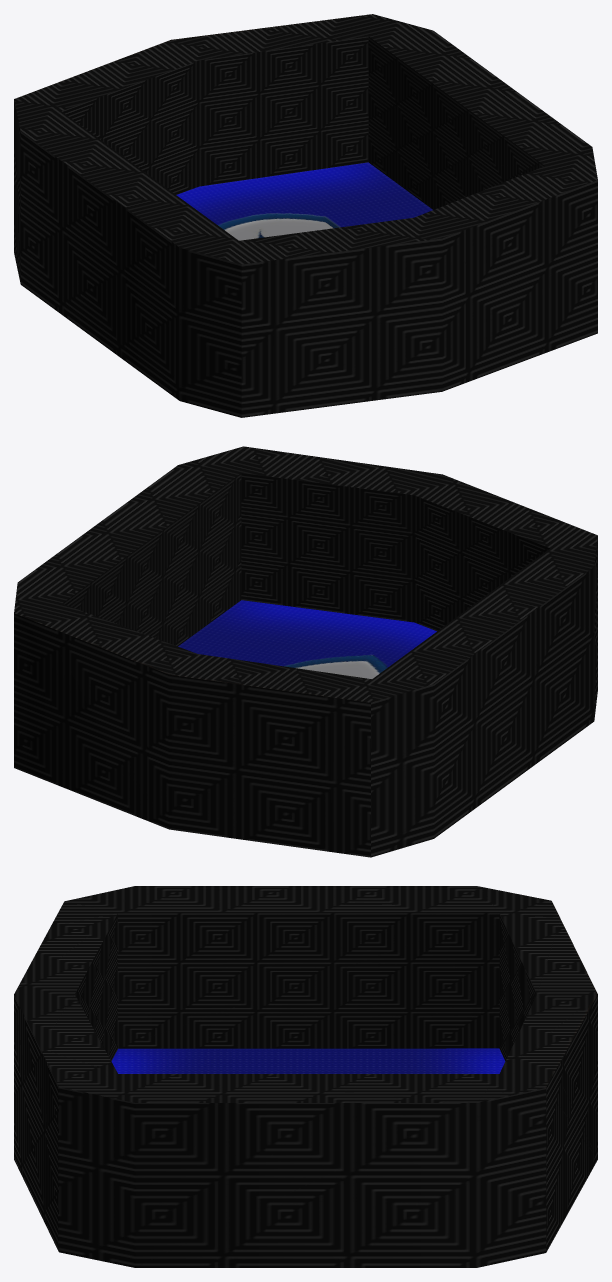
File: DiceBox.fbx
3 renders of one model, top to bottom at view 1: azimuth 30°, elevation 25°; view 2: azimuth 150°, elevation 25°; view 3: azimuth 270°, elevation 25°, orthographic. The views are drawn at different scales.
Parts seen in each view (by area): view 1: pCube6; view 2: pCube6; view 3: pCube6.
Boxes of the visible parts, x1,y1,x2,y2 form: pCube6: (14,14,597,417); pCube6: (14,446,597,857); pCube6: (14,886,597,1267).
Size of the model in its own units: 247 by 87.57 by 281.
Materials: 1 (1 with a texture image).
